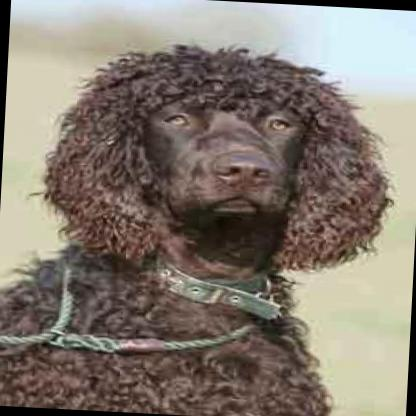Irish_water_spaniel: (0, 27, 397, 416)
